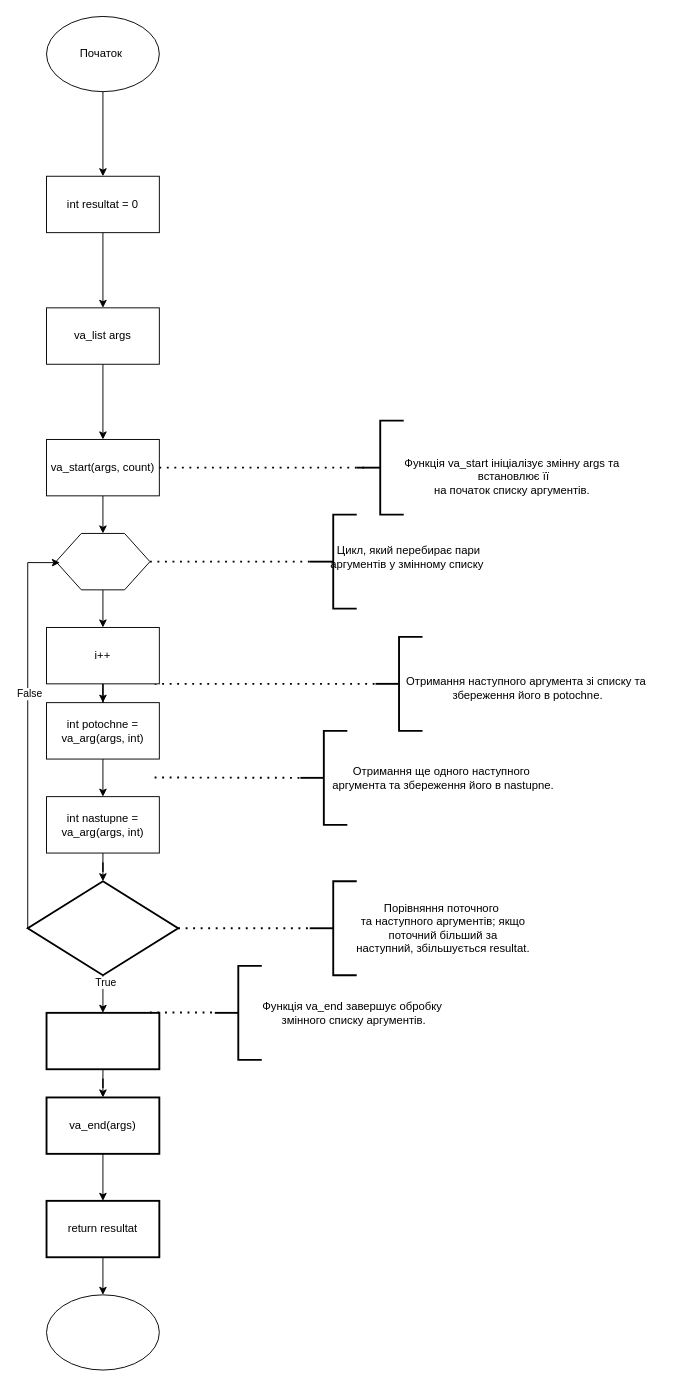
Image size: 673x1387. Some labels were removed from this diagram. The centre of each missing label's shape, as x and y in pixels:
"i < count - 1" goes at [102,561].
"potochne > nastupne" goes at [102,928].
"resultat++" goes at [102,1040].
"Кінець" goes at [102,1332].
